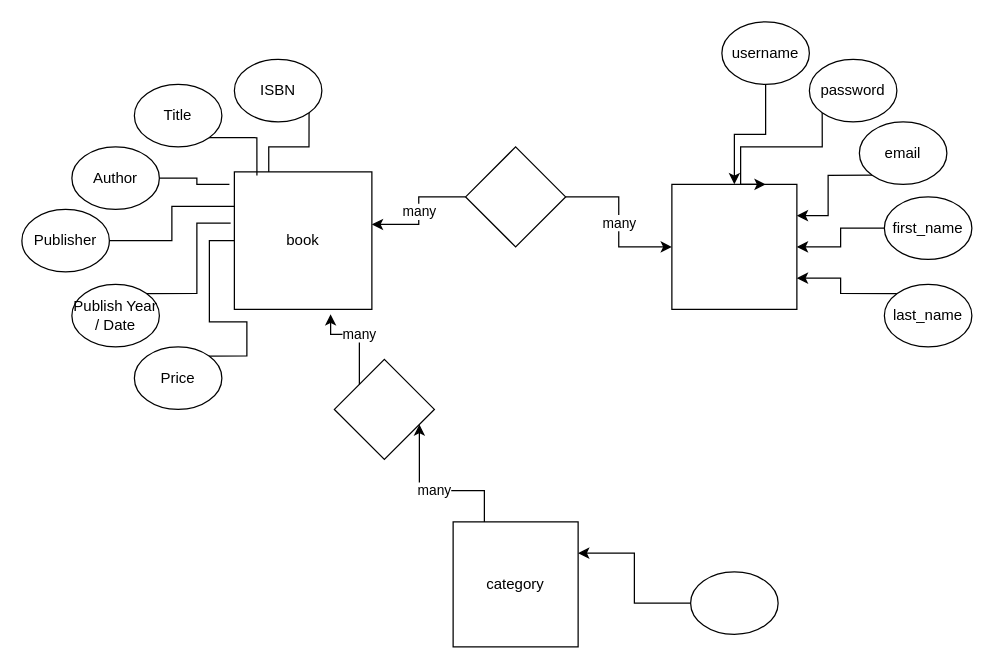
The diagram is 994 pixels wide and 669 high, and some of its shapes have lost their labels. The centre of each missing label's shape, as x and y in pixels:
"favrites" belongs at point (515, 196).
"genre" belongs at point (383, 408).
"name" belongs at point (733, 602).
"user" belongs at point (734, 246).
